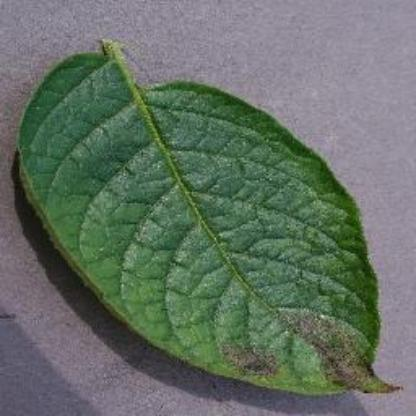Late-Blight: (12, 38, 404, 396)
